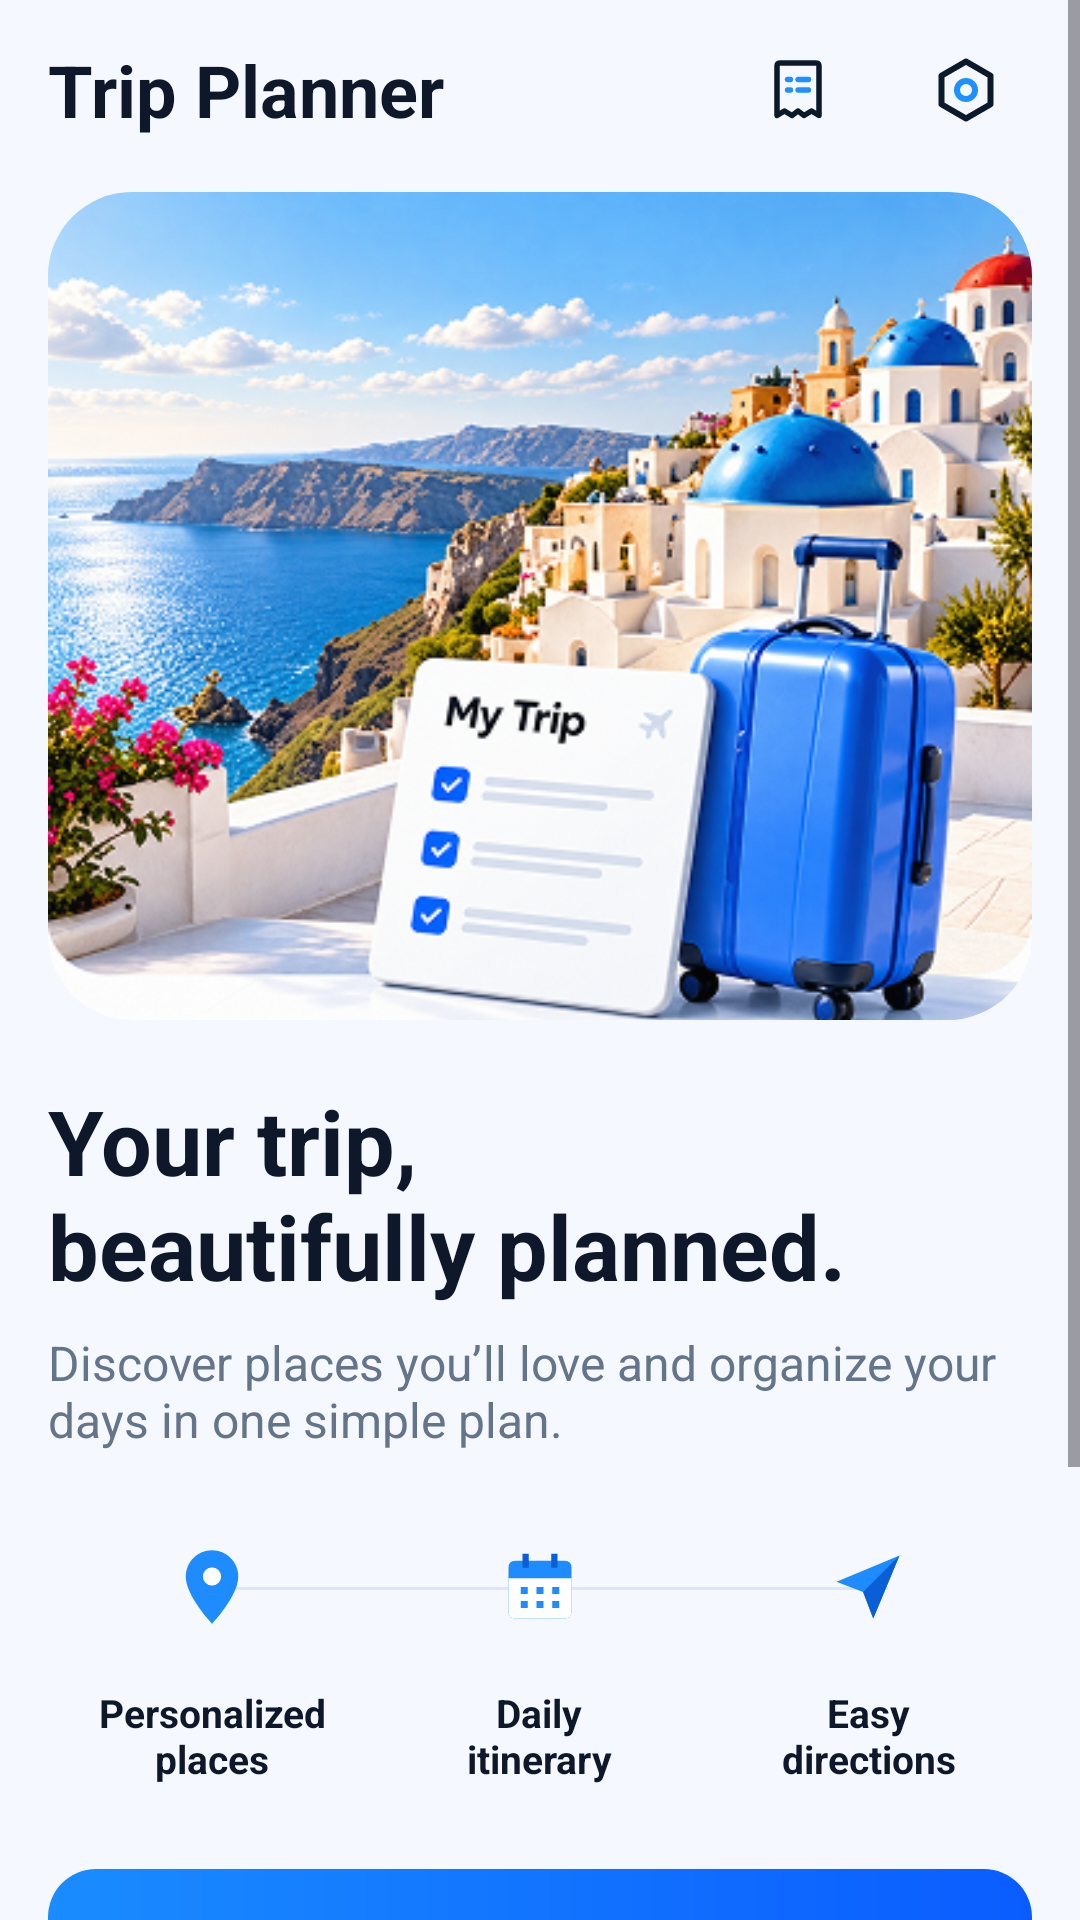

Icons on this 1080 x 1920 Android screen, each with the point to tap as (x=x, y=y):
My trips: (x=798, y=89)
planner navigation: (x=846, y=1587)
Settings: (x=966, y=90)
